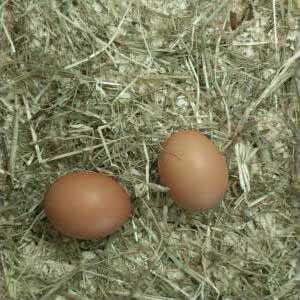egg: (44, 170, 132, 241), (157, 129, 230, 210)
